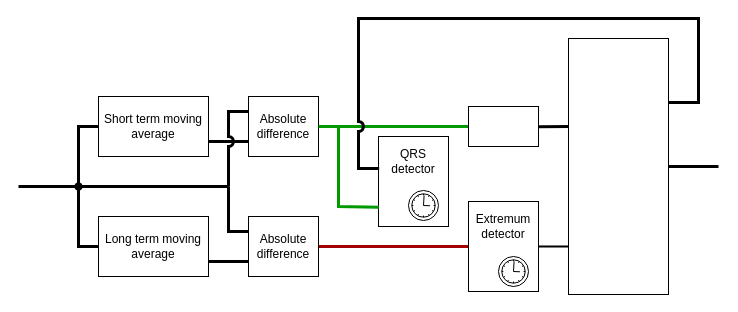
This 738x312 diagram has some shape labels left out. The shapes that lost their labels are listed below. From the top down, each one's centre as x and y in pixels, then its label:
At pixel 503 126: "Maximum hold".
At pixel 618 166: "Finite State Machine".
